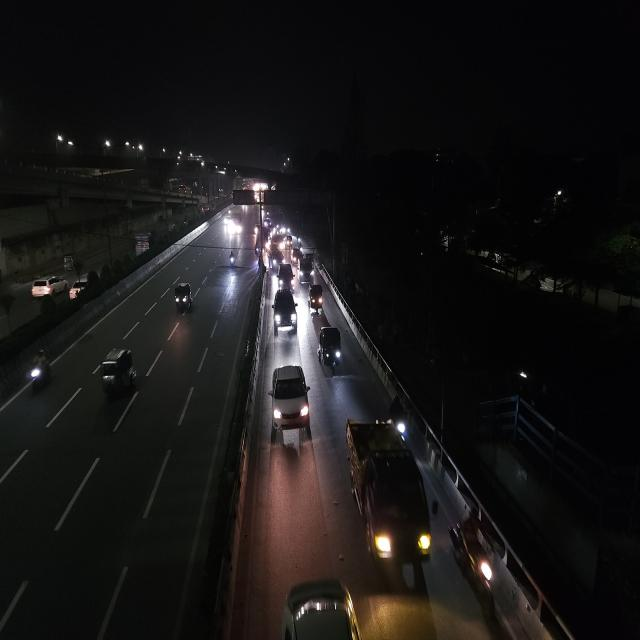car: (267, 361, 313, 443), (95, 342, 141, 402), (272, 285, 298, 338), (29, 274, 67, 300), (67, 275, 98, 300), (298, 254, 316, 285), (277, 262, 296, 290), (298, 264, 316, 284), (290, 247, 303, 270)
cng: (316, 323, 344, 378), (171, 278, 195, 320), (62, 254, 76, 272), (284, 233, 294, 247)
motorcycle: (24, 345, 54, 400), (387, 392, 411, 442), (228, 247, 238, 268)
pickup_van: (342, 416, 431, 580)
truck: (132, 230, 154, 251)
